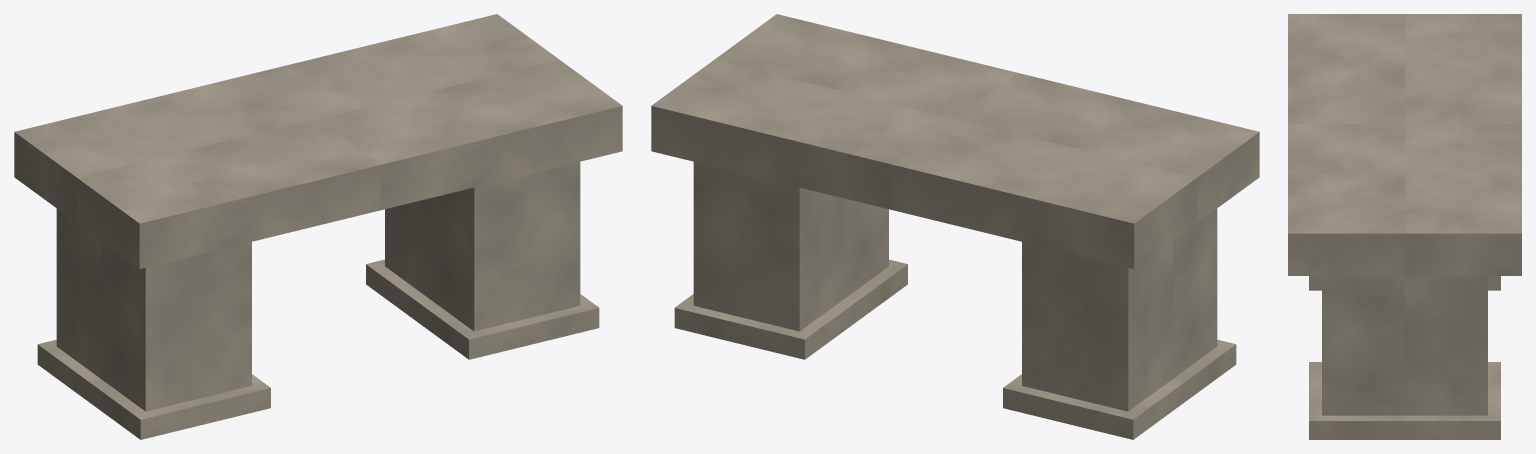
Rendered from Table_Stone_1_LOD1.gltf.
3 views of the same model, side by side, from view 1: azimuth 30°, elevation 25°; view 2: azimuth 150°, elevation 25°; view 3: azimuth 270°, elevation 25° (orthographic). The views are drawn at different scales.
Visible parts, largest first — view 1: Table_Stone_1_LOD1; view 2: Table_Stone_1_LOD1; view 3: Table_Stone_1_LOD1.
Boxes of the visible parts, left/top/right/bottom form: Table_Stone_1_LOD1: left=14, top=14, right=622, bottom=439; Table_Stone_1_LOD1: left=651, top=14, right=1259, bottom=439; Table_Stone_1_LOD1: left=1288, top=14, right=1521, bottom=439.
Size of the model in its own units: 2 by 0.9 by 0.9.
1 material, 1 textured.
